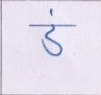anusvara: (50, 9, 53, 16)
